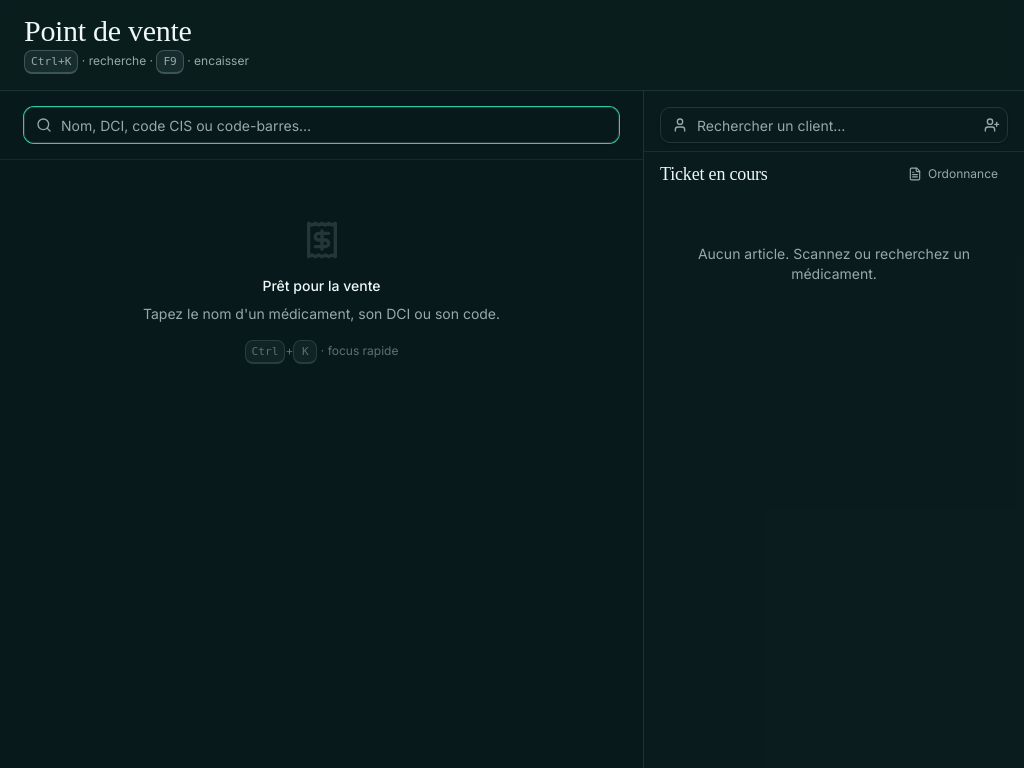
Scenario: ScreenPOS — comportement métier du point de vente › recherche les médicaments après le debounce et expose les états de stock
Type "Para" into the field with placeholder "Nom, DCI, code CIS ou code-barres…" at point(322, 125), box left=24, top=107, right=619, bottom=143
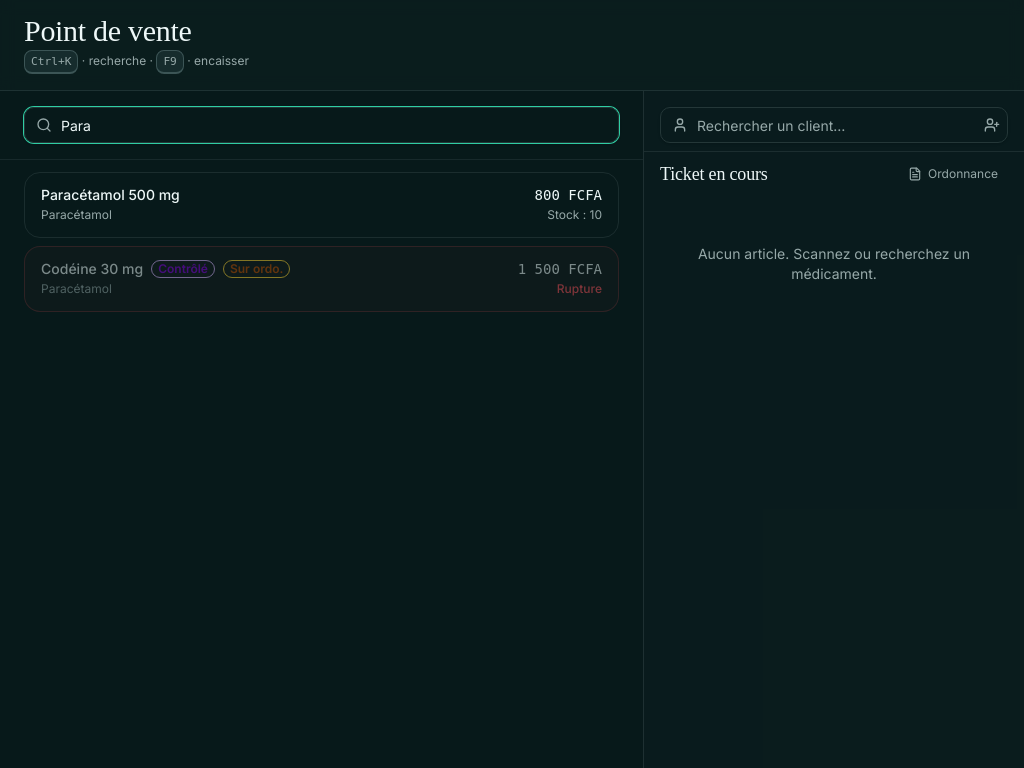
Expected: the button "Paracétamol 500 mg" is shown, left=24, top=172, right=619, bottom=238
Expected: the button "Codéine 30 mg" is disabled, left=24, top=246, right=619, bottom=312
Expected: the text "Rupture" is shown, left=557, top=281, right=602, bottom=296
